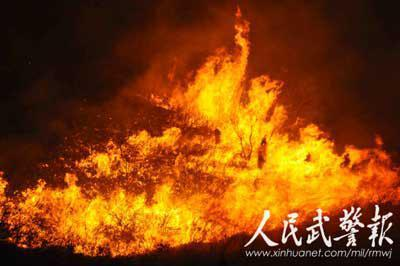fire: (171, 10, 396, 227), (2, 121, 192, 252)
